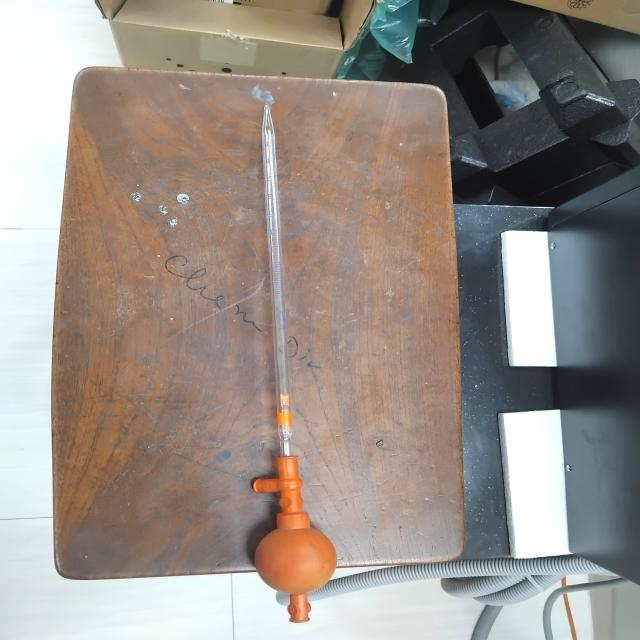Volumetric_Pipet: (220, 78, 374, 640)
